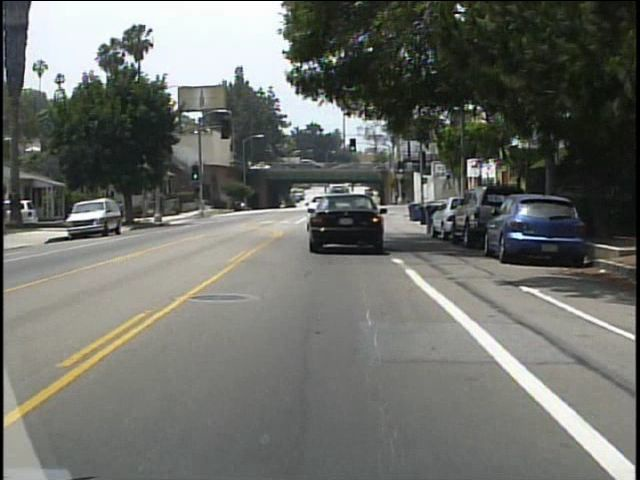person: (119, 199, 128, 223)
